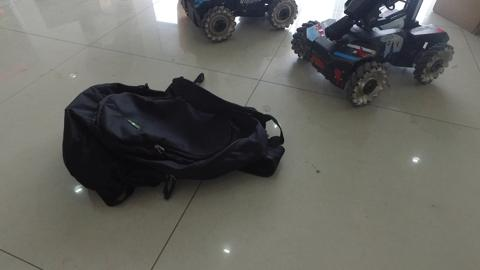bag: (61, 81, 291, 204)
chariot: (295, 1, 456, 105), (181, 1, 299, 38)
